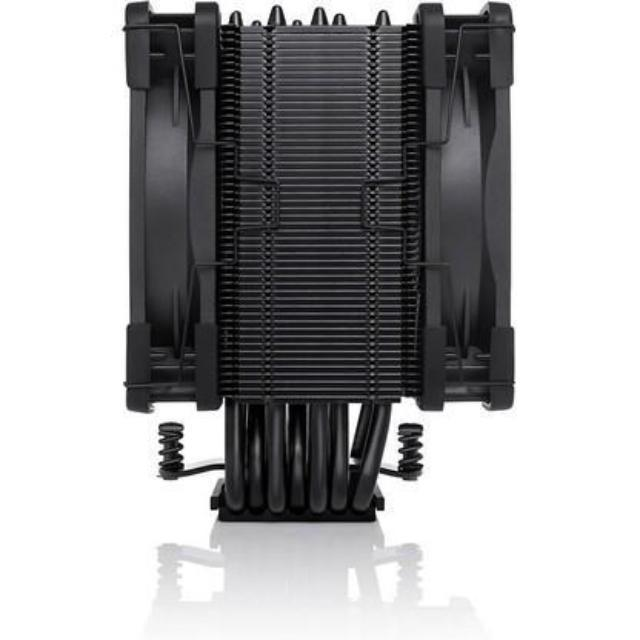CPU_Fan: (124, 4, 513, 528)
